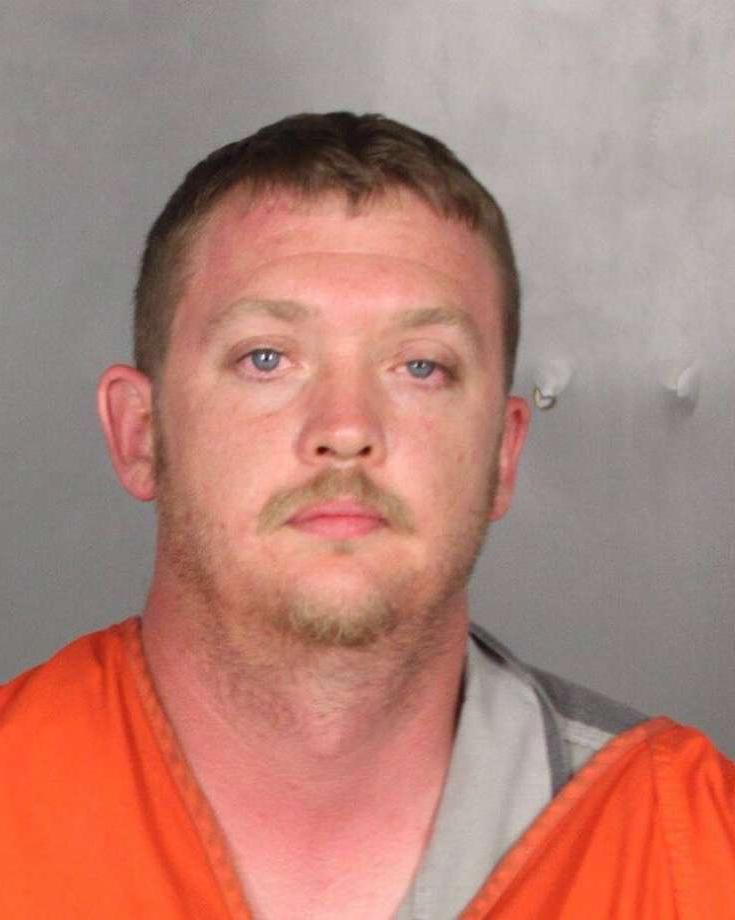Drunk: (191, 200, 502, 634)
